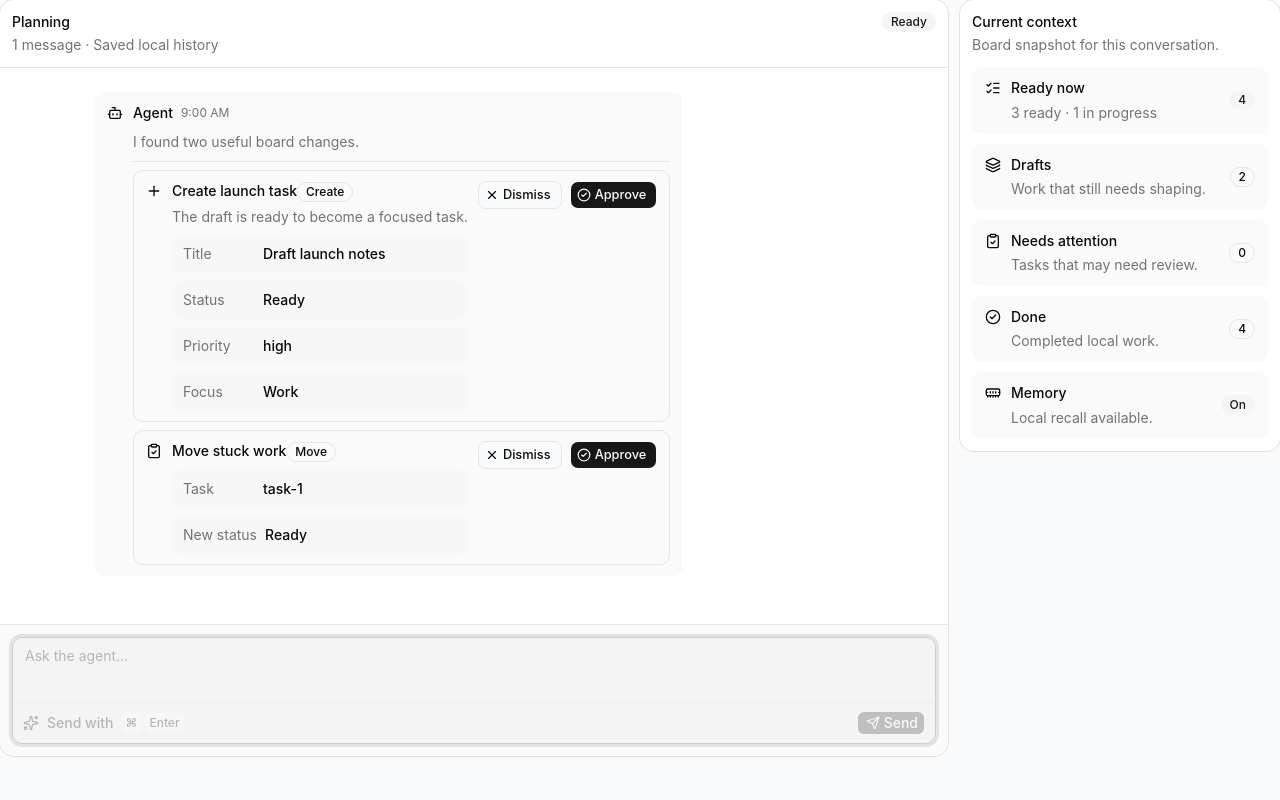
Test: AssistantChatPanel › renders proposed task actions and requires approval or dismissal
Click the button "Approve" in the row of "Create launch task" at coordinates (613, 195), box [570, 181, 657, 209]
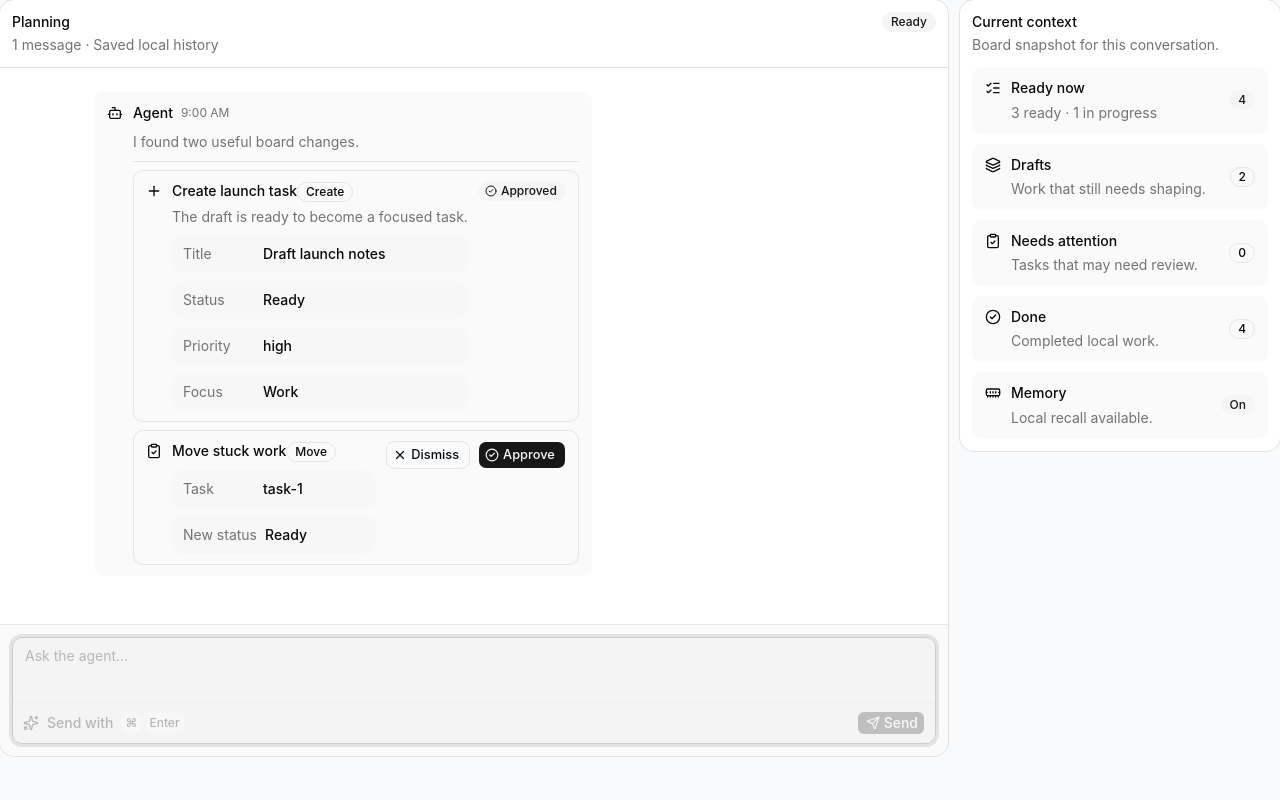
Now the text "Approved" is shown, box [478, 181, 566, 201]
Click the button "Dismiss" at coordinates (428, 455), box [386, 441, 470, 469]
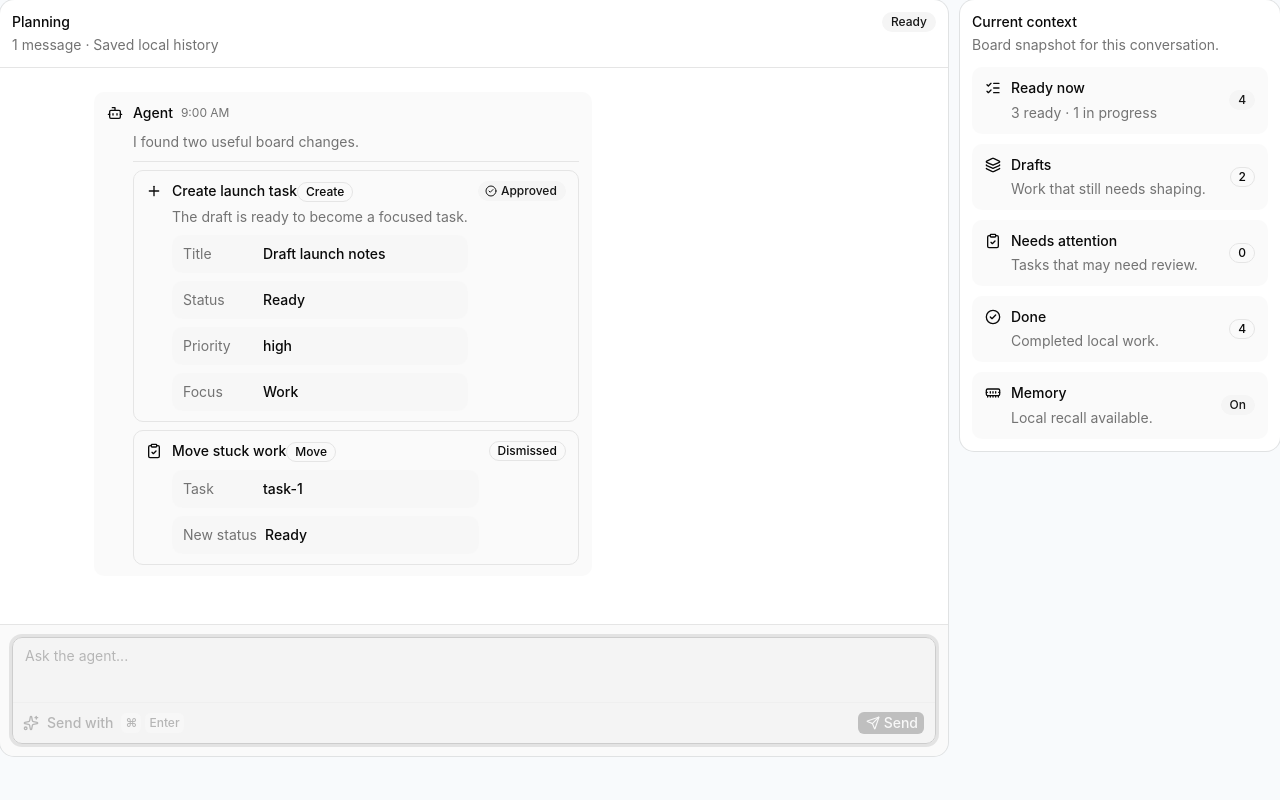
Now the text "Dismissed" is shown, box [489, 441, 566, 461]
